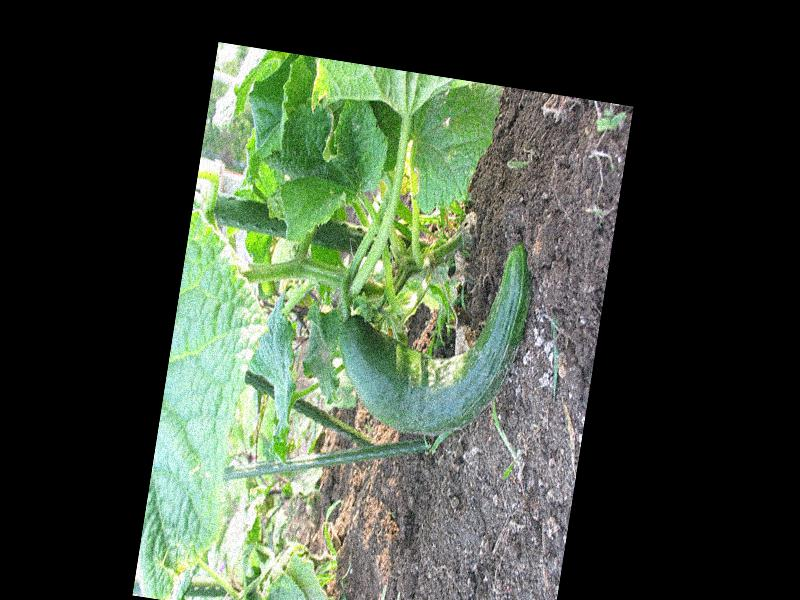Cucumber: (325, 216, 539, 450)
